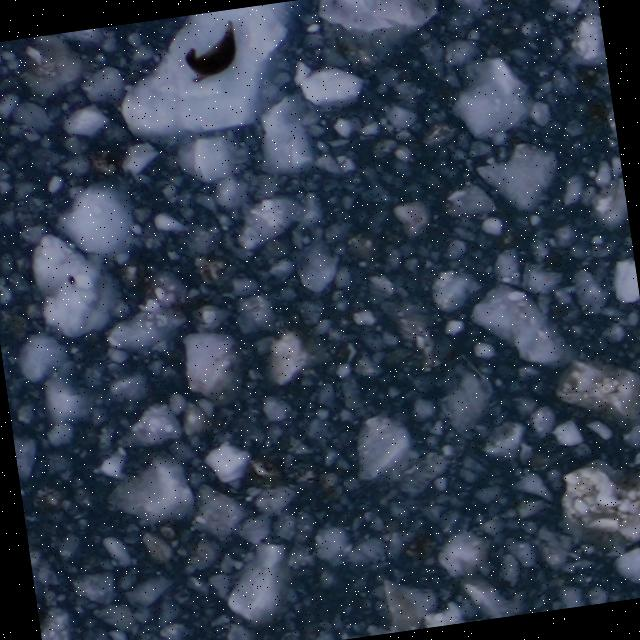seal: (177, 16, 244, 85)
